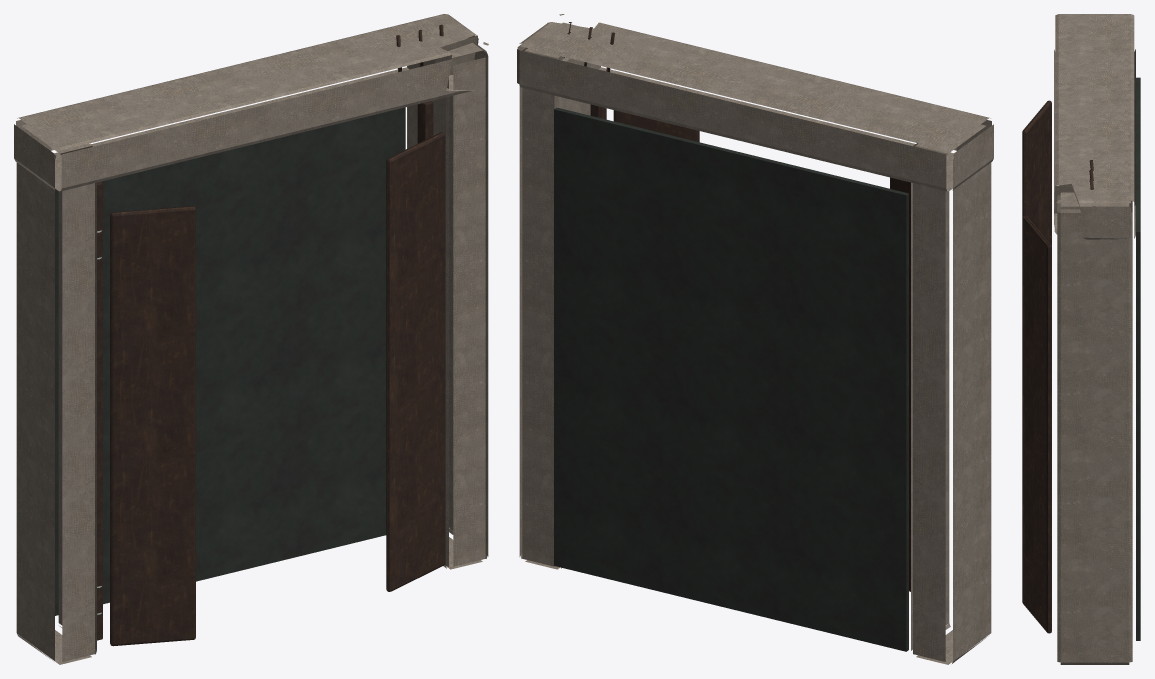
Rendered from lod2_NOT_APPROVED.glb.
The picture shows the model from 3 angles, left to right: view 1: azimuth 30°, elevation 25°; view 2: azimuth 150°, elevation 25°; view 3: azimuth 270°, elevation 25°; orthographic projection. The views are drawn at different scales.
Visible parts, largest first — view 1: f3_weathered_concrete_surface, f3_deep_crack_surface, f3_oxidized_iron_surface; view 2: f3_deep_crack_surface, f3_weathered_concrete_surface, f3_oxidized_iron_surface; view 3: f3_weathered_concrete_surface, f3_oxidized_iron_surface, f3_deep_crack_surface.
Boxes of the visible parts, bbox=[...] form: f3_weathered_concrete_surface: bbox=[14, 14, 488, 664]; f3_deep_crack_surface: bbox=[55, 107, 405, 615]; f3_oxidized_iron_surface: bbox=[97, 24, 445, 646]; f3_deep_crack_surface: bbox=[554, 107, 908, 651]; f3_weathered_concrete_surface: bbox=[517, 14, 993, 664]; f3_oxidized_iron_surface: bbox=[564, 22, 910, 591]; f3_weathered_concrete_surface: bbox=[1054, 14, 1135, 664]; f3_oxidized_iron_surface: bbox=[1022, 100, 1095, 633]; f3_deep_crack_surface: bbox=[1136, 77, 1140, 640].
Bounding box in the file's own units: 3.75 × 4.35 × 0.9829.
Materials: 4 (4 with a texture image).
